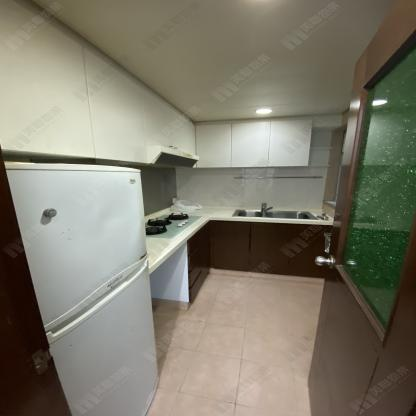Cupboard: (15, 2, 312, 170), (206, 222, 334, 278)
Faucet: (259, 201, 273, 212)
Fridge: (4, 161, 163, 415)
Sink: (226, 209, 326, 222)
Stove: (142, 210, 202, 239)
